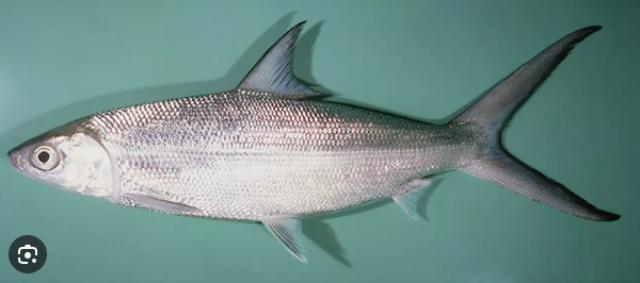Mulut: (0, 125, 46, 193)
Sirip Anal: (377, 170, 445, 228)
Sirip Dada: (111, 184, 205, 226)
Sirip Ekor: (446, 14, 634, 234)
Sirip Perut: (248, 202, 322, 282)
Sirip Punggung: (227, 16, 337, 117)
